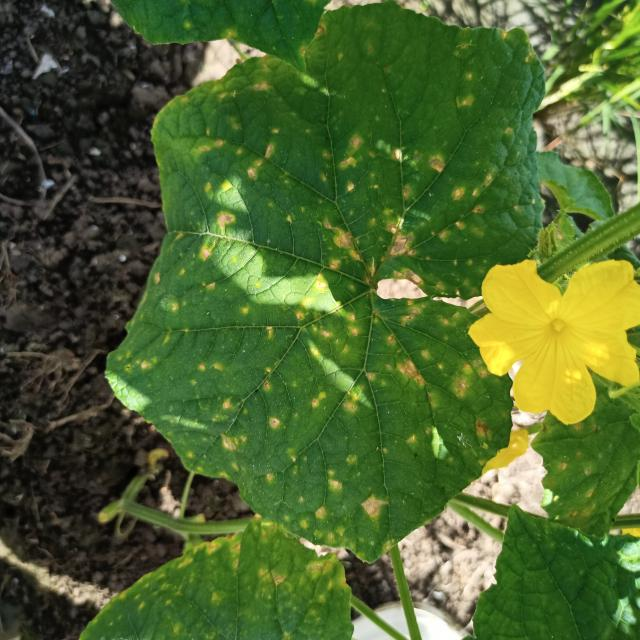disease_cucumber: (122, 36, 544, 531)
